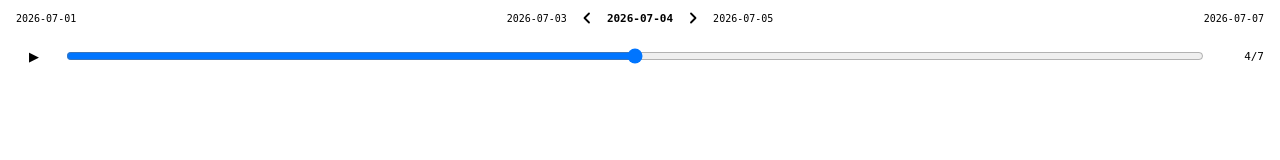
Scenario: the row of dates › goes one step to the older with "<" and one to the newer with ">", and the list follows
Click the button named "Previous step". click: [587, 18]
box: x1=573 y1=4 x2=601 y2=32
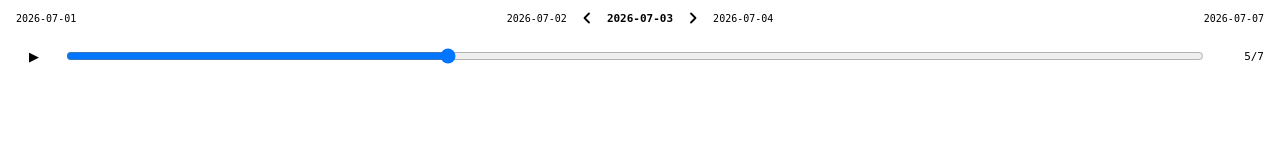
Click the button named "Next step". click: [693, 18]
box: x1=679 y1=4 x2=707 y2=32
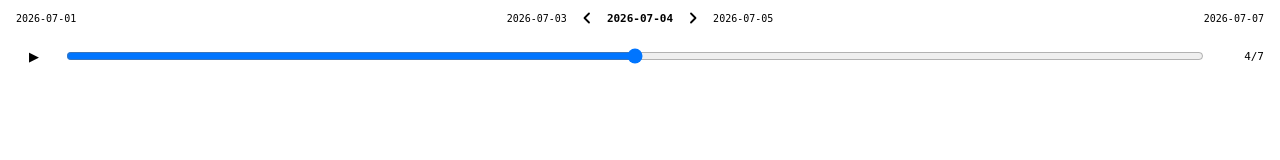
Click the button named "Next step". click: [693, 18]
box: x1=679 y1=4 x2=707 y2=32
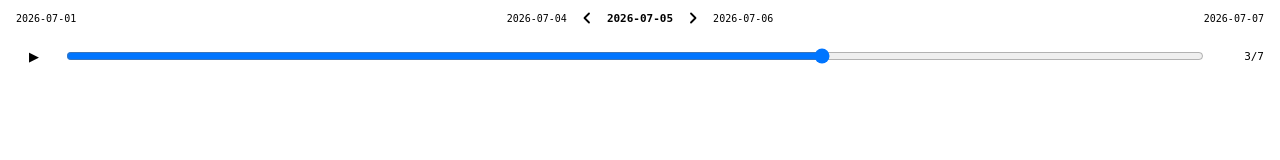
Check: the text with class "time-count" reads "3/7", box x1=1244 y1=50 x2=1264 y2=62
